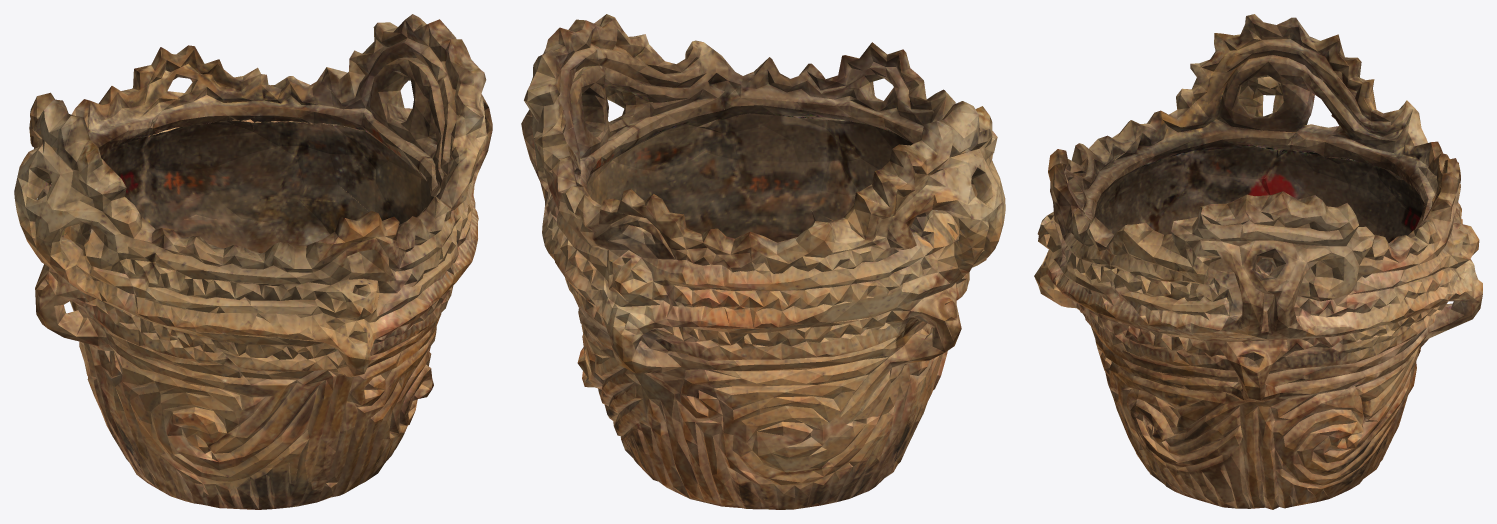
3 renders of one model, left to right at view 1: azimuth 30°, elevation 25°; view 2: azimuth 150°, elevation 25°; view 3: azimuth 270°, elevation 25°, orthographic. The views are drawn at different scales.
Parts seen in each view (by area): view 1: SK0005_low; view 2: SK0005_low; view 3: SK0005_low.
Boxes of the visible parts, x1,y1,x2,y2 form: SK0005_low: [14, 14, 492, 509]; SK0005_low: [521, 14, 1005, 509]; SK0005_low: [1034, 14, 1482, 509].
Bounding box in the file's own units: 213 × 174 × 197.
Materials: 1 (1 with a texture image).
